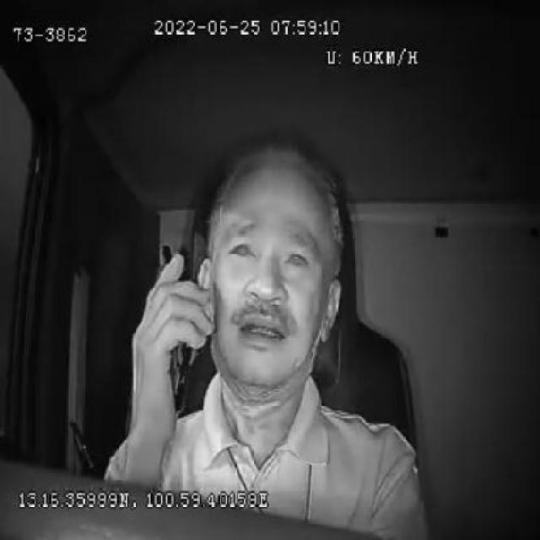phone: (157, 241, 196, 419)
